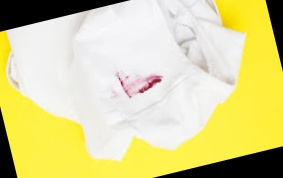lipstick: (115, 60, 166, 103)
